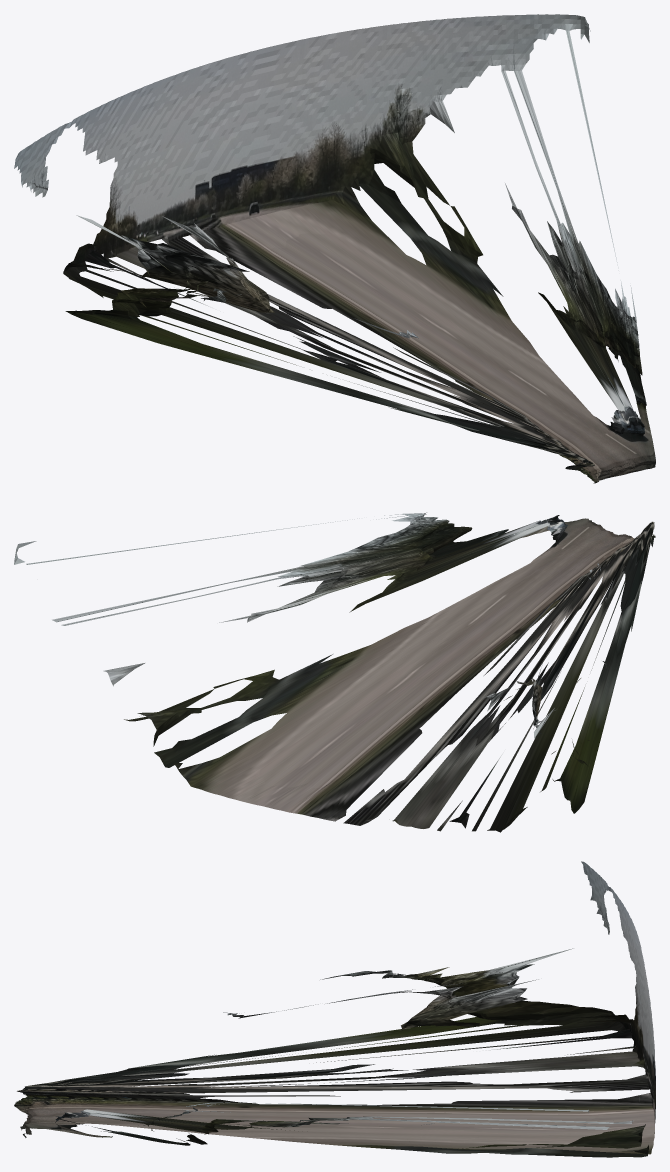
3 renders of one model, top to bottom at view 1: azimuth 30°, elevation 25°; view 2: azimuth 150°, elevation 25°; view 3: azimuth 270°, elevation 25°, orthographic. The views are drawn at different scales.
Visible parts, largest first — view 1: defaultobject; view 2: defaultobject; view 3: defaultobject.
Boxes of the visible parts, <box> form: defaultobject: <box>14,14,655,483</box>; defaultobject: <box>14,512,655,832</box>; defaultobject: <box>14,861,655,1157</box>.
Size of the model in its own units: 40.5 by 11.99 by 44.88.
1 material, 1 textured.
